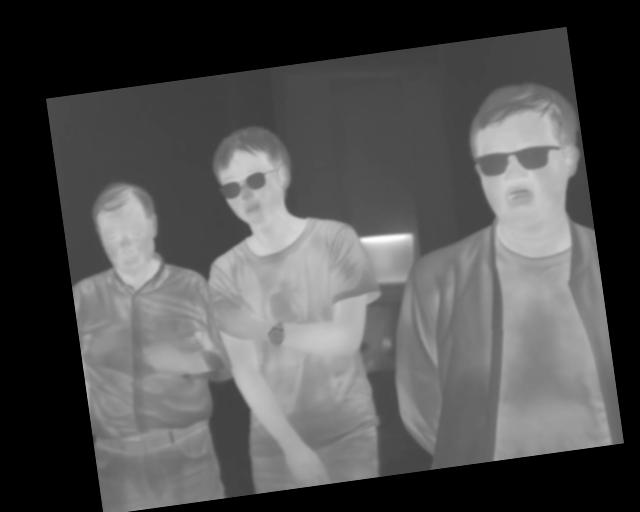face: (460, 75, 590, 237), (204, 119, 297, 229), (87, 176, 165, 280)
